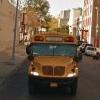Bus: (22, 27, 86, 93)
